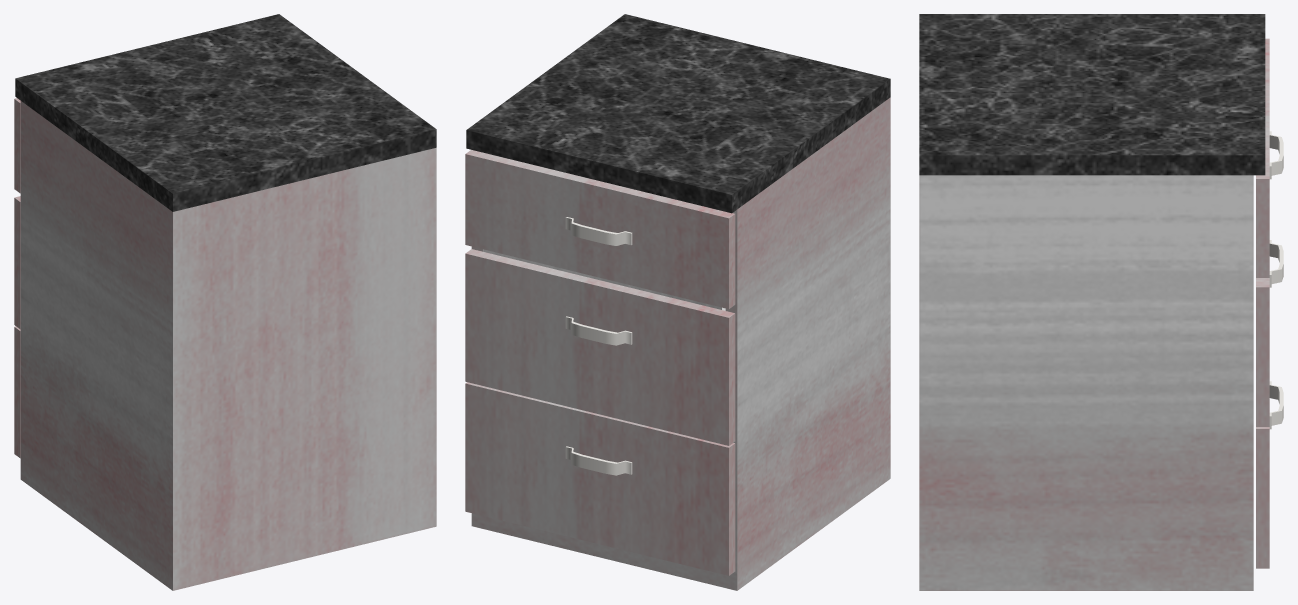
File: cupbpard2.fbx
3 renders of one model, left to right at view 1: azimuth 30°, elevation 25°; view 2: azimuth 150°, elevation 25°; view 3: azimuth 270°, elevation 25°, orthographic. The views are drawn at different scales.
Visible parts, largest first — view 1: cupboard2; view 2: cupboard2; view 3: cupboard2.
Part boxes in pixels (<box>): cupboard2: <box>14,14,436,590</box>; cupboard2: <box>465,14,890,590</box>; cupboard2: <box>919,14,1283,590</box>.
Bounding box in the file's own units: 1.11 × 1.6 × 1.21.
